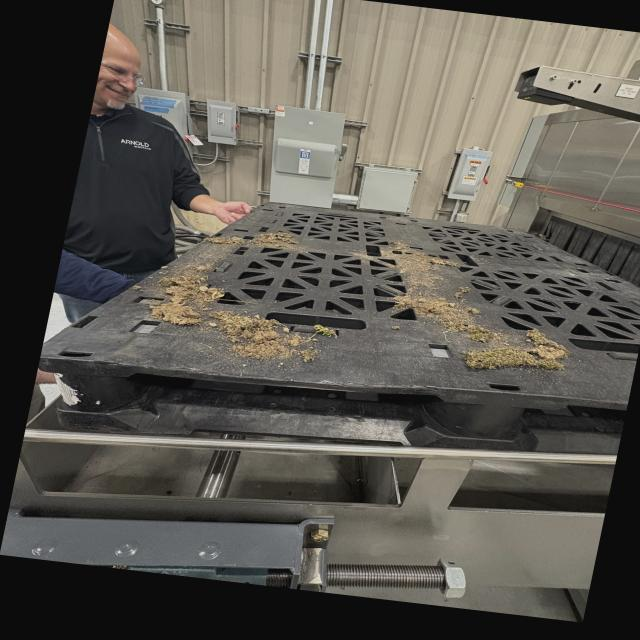igps: (33, 189, 640, 465)
